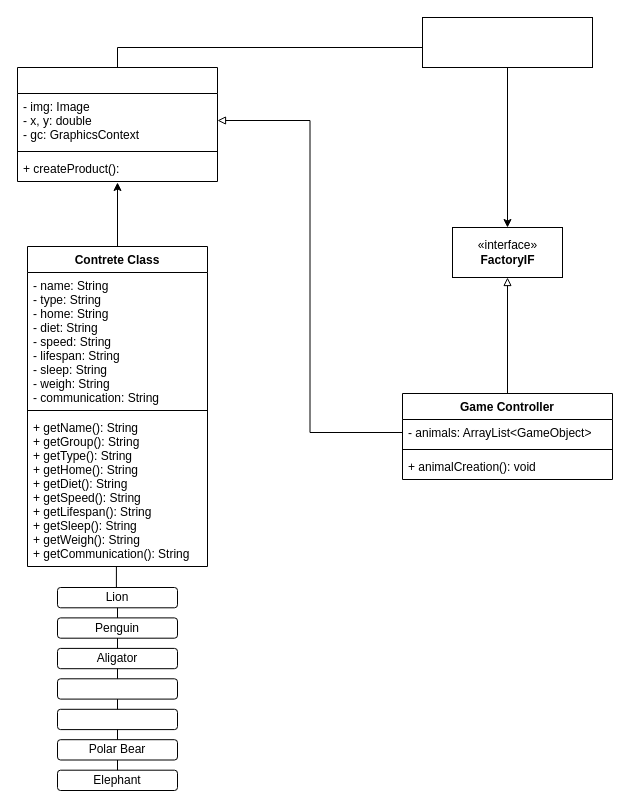
The diagram is 630 pixels wide and 808 high, and some of its shapes have lost their labels. The shapes that lost their labels are listed below. From the top down, each one's box as (x1, y1, x2, y2) in pixels, then its label:
(422, 16, 592, 68): Animal - Creation requestor
(16, 66, 218, 182): Game Object
(56, 678, 178, 699): Gorilla
(56, 708, 178, 730): Tiger
